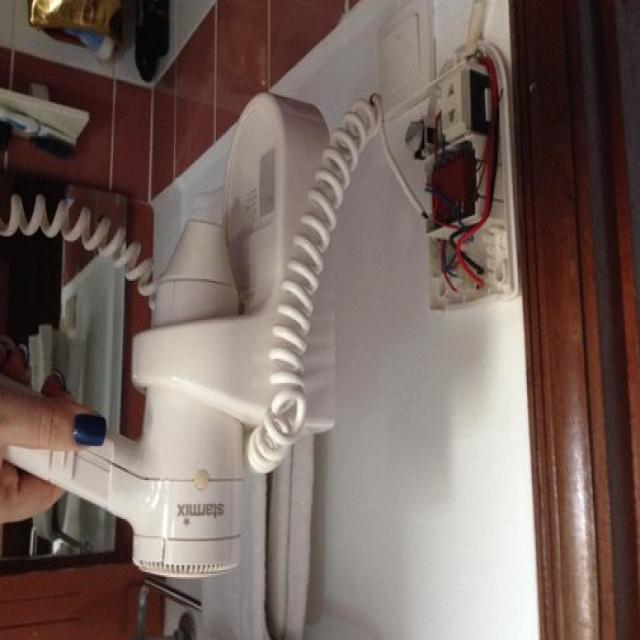dryer: (0, 72, 358, 611), (12, 180, 268, 582)
